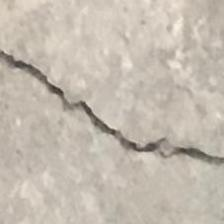Crack: (0, 44, 224, 174)
